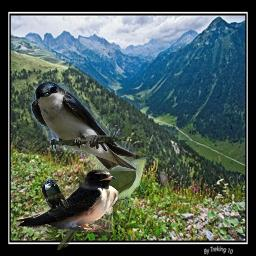Cuckoo: (57, 151, 154, 252)
Swallow: (31, 82, 136, 171), (13, 169, 119, 232), (41, 178, 69, 212)
